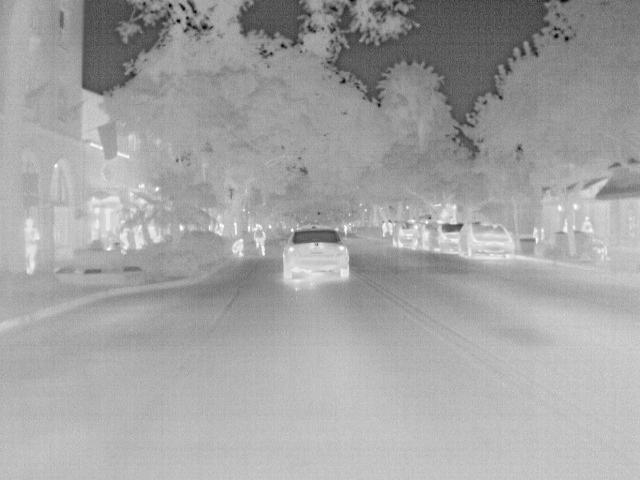car: (283, 228, 353, 283), (460, 220, 520, 258), (426, 220, 463, 253), (395, 220, 418, 246)
person: (24, 218, 43, 274), (251, 224, 269, 257), (228, 238, 245, 259), (579, 214, 594, 232), (380, 220, 388, 238), (387, 220, 395, 237)
